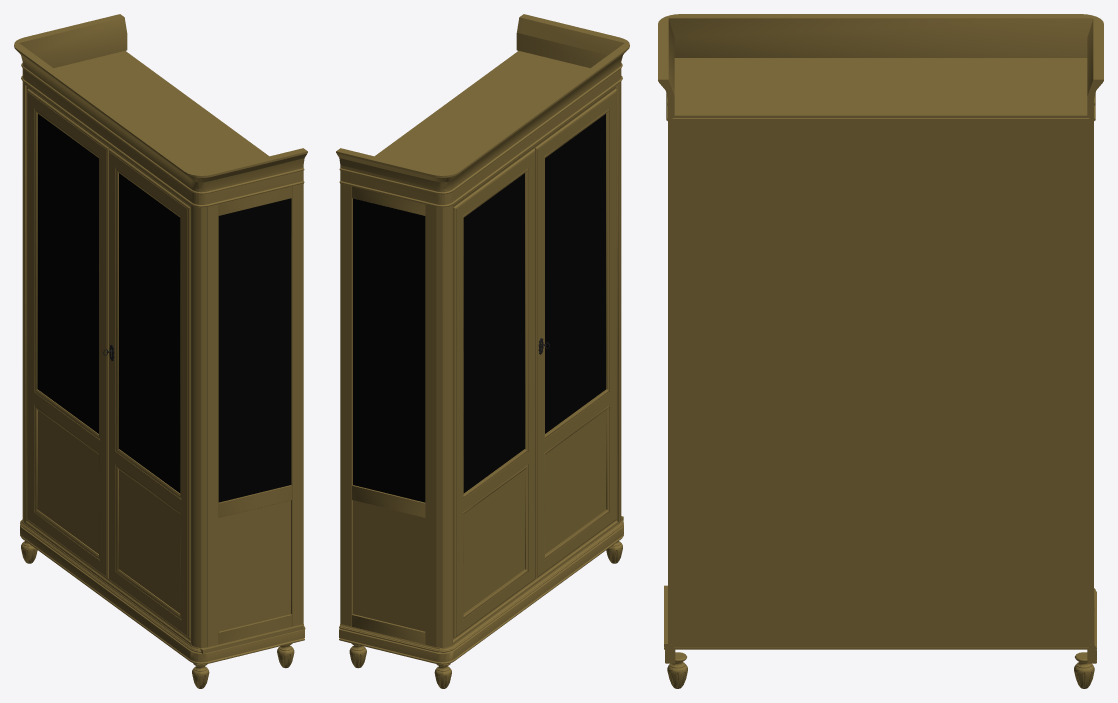
File: Cupboard.FBX
The picture shows the model from 3 angles, left to right: view 1: azimuth 30°, elevation 25°; view 2: azimuth 150°, elevation 25°; view 3: azimuth 270°, elevation 25°; orthographic projection. The views are drawn at different scales.
Parts seen in each view (by area): view 1: Layer:0; view 2: Layer:0; view 3: Layer:0.
Part boxes in pixels (bbox=[...]): Layer:0: bbox=[14, 14, 307, 688]; Layer:0: bbox=[336, 14, 629, 688]; Layer:0: bbox=[658, 14, 1103, 688].
Bounding box in the file's own units: 49.8 × 214 × 141.
